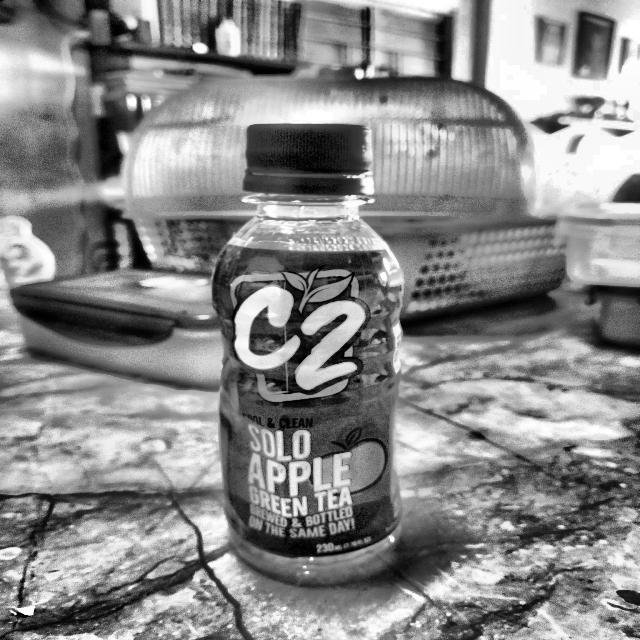Plastic-Bottle: (208, 118, 409, 583)
